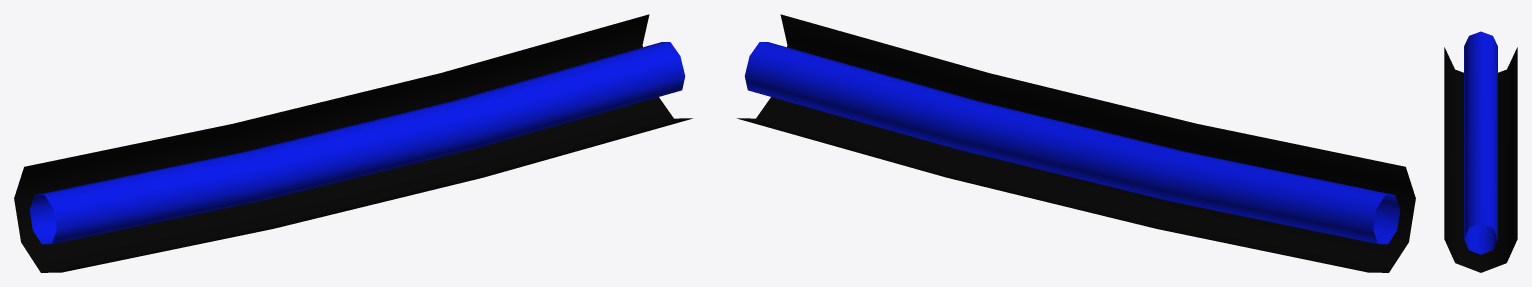
File: TrozoCable2.glb
3 views of the same model, side by side, from view 1: azimuth 30°, elevation 25°; view 2: azimuth 150°, elevation 25°; view 3: azimuth 270°, elevation 25° (orthographic). The views are drawn at different scales.
Visible parts, largest first — view 1: Section2; view 2: Section2; view 3: Section2.
Part boxes in pixels (x1,y1,x2,y2): Section2: (14, 14, 692, 272); Section2: (737, 14, 1415, 272); Section2: (1444, 31, 1517, 272).
Bounding box in the file's own units: 12.96 × 2.22 × 2.07.
